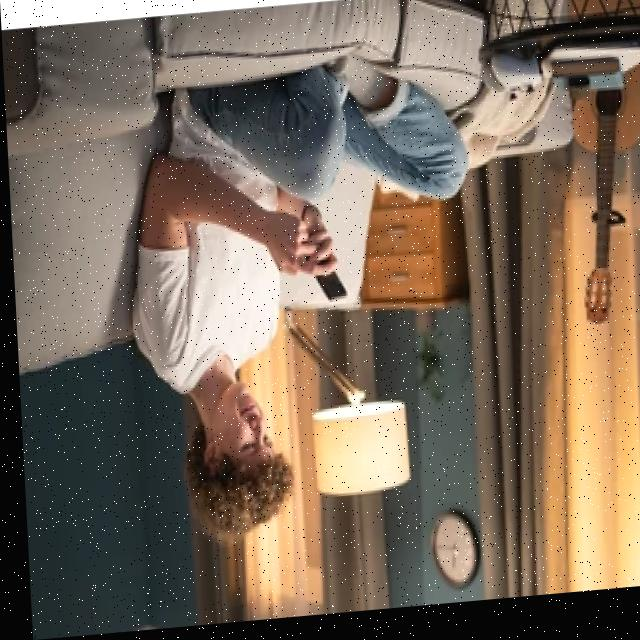smartphone-person: (114, 89, 363, 562)
